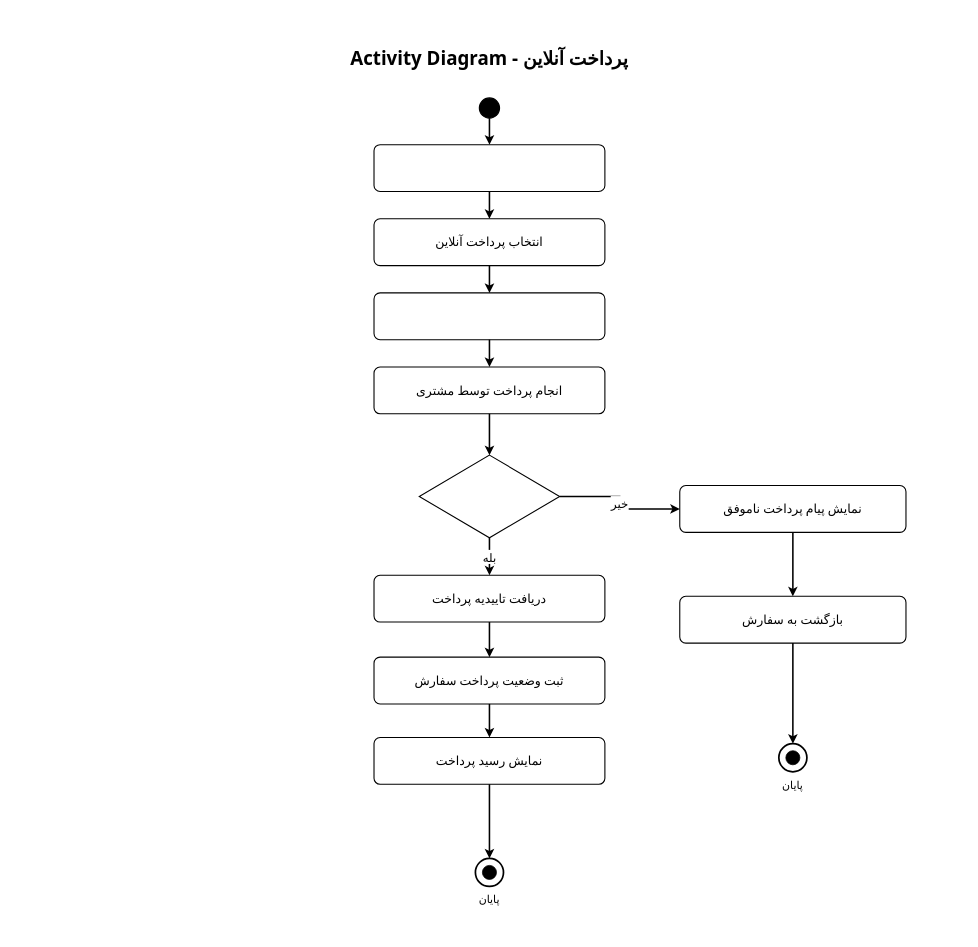
Image size: 978x947. Some labels were removed from this diagram. The shapes that lost their labels are listed below. From the top down, each one's centre as x and y in pixels, then its label:
the point at 489,168: انتخاب سفارش در انتظار پرداخت
the point at 489,316: انتقال به درگاه پرداخت
the point at 489,496: پرداخت موفق بود؟
